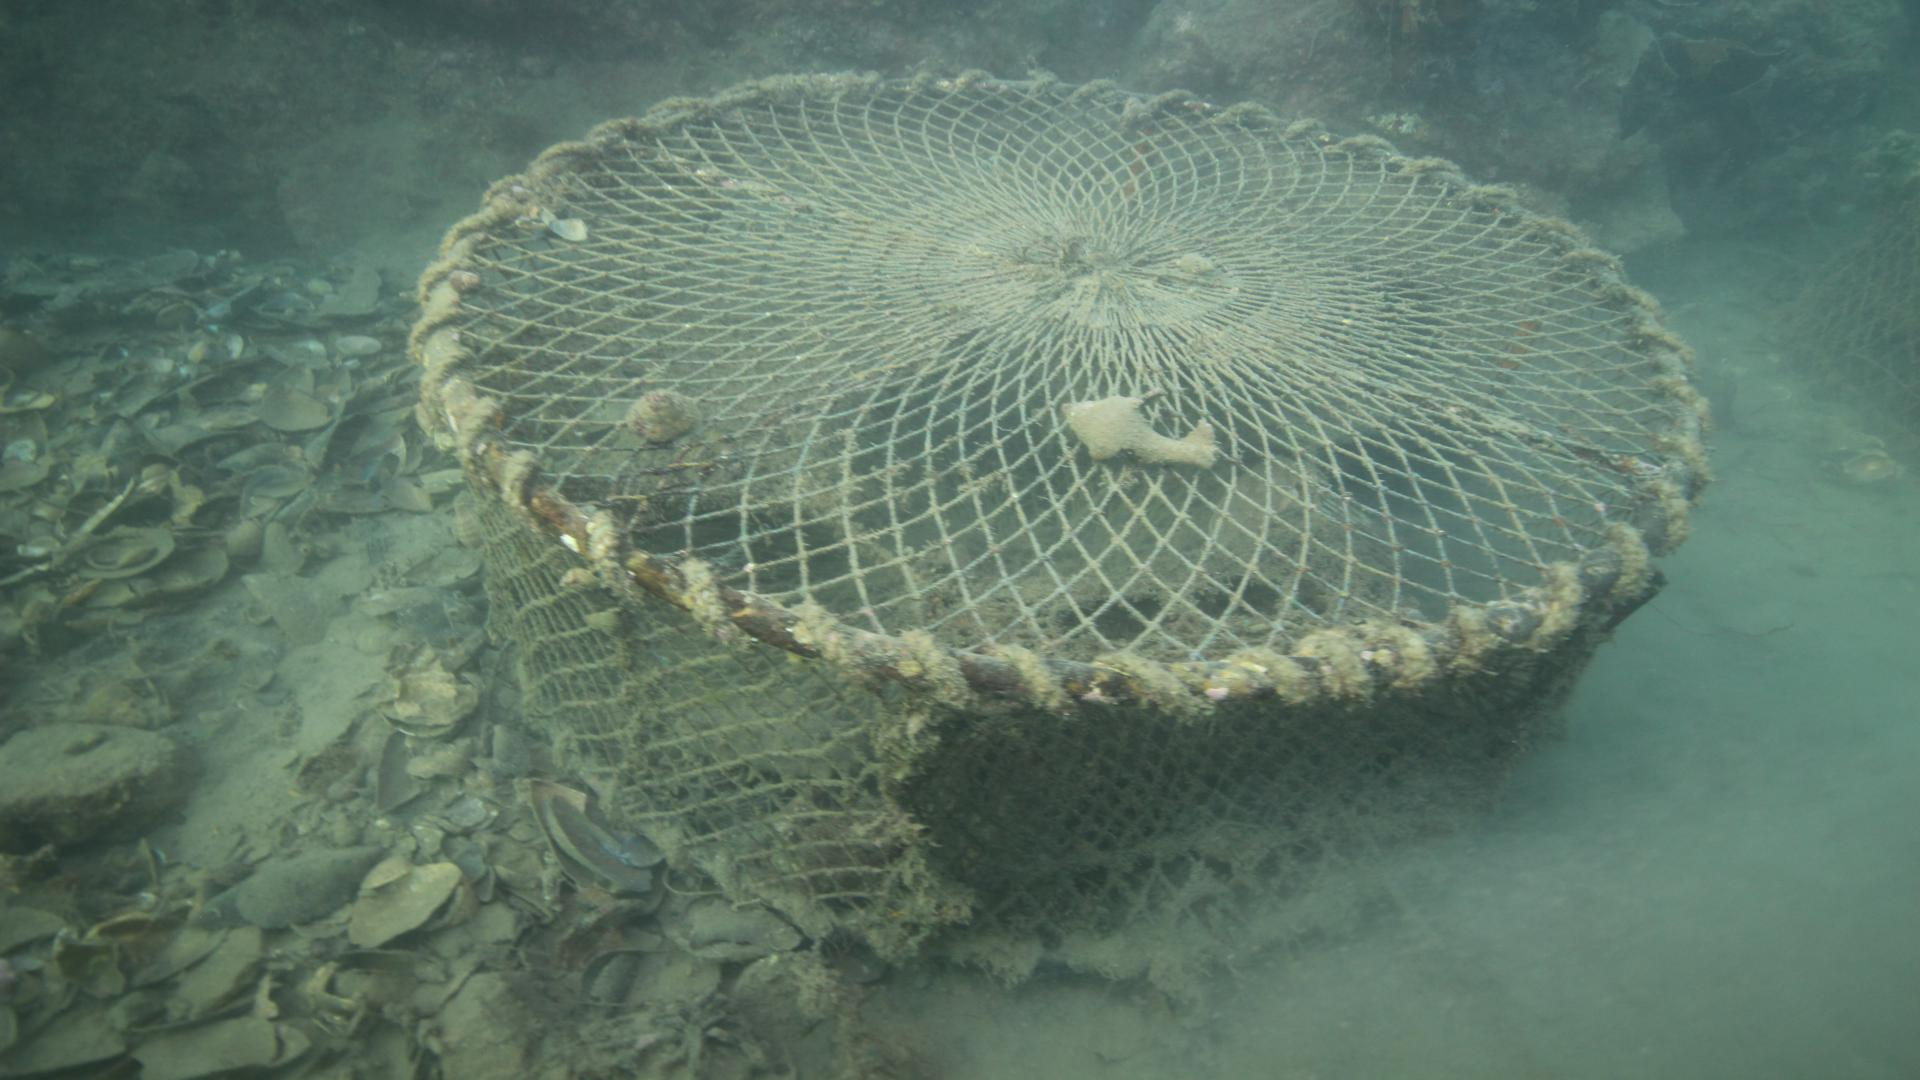circular fish trap: (402, 65, 1714, 993)
